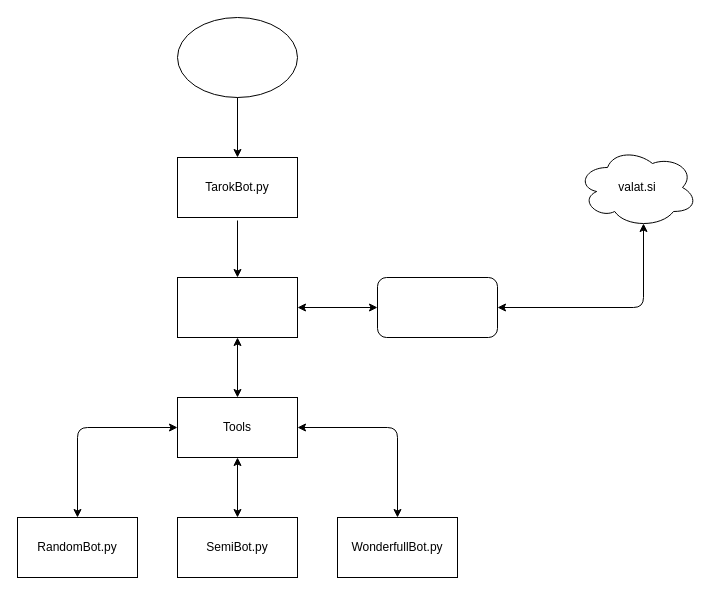
The diagram is 715 pixels wide and 595 high, and some of its shapes have lost their labels. Here are the shapes that lost their labels. From the top down, the centre of each, then its label:
[237,57]: Start
[237,307]: Connector.py
[437,307]: Selenium
